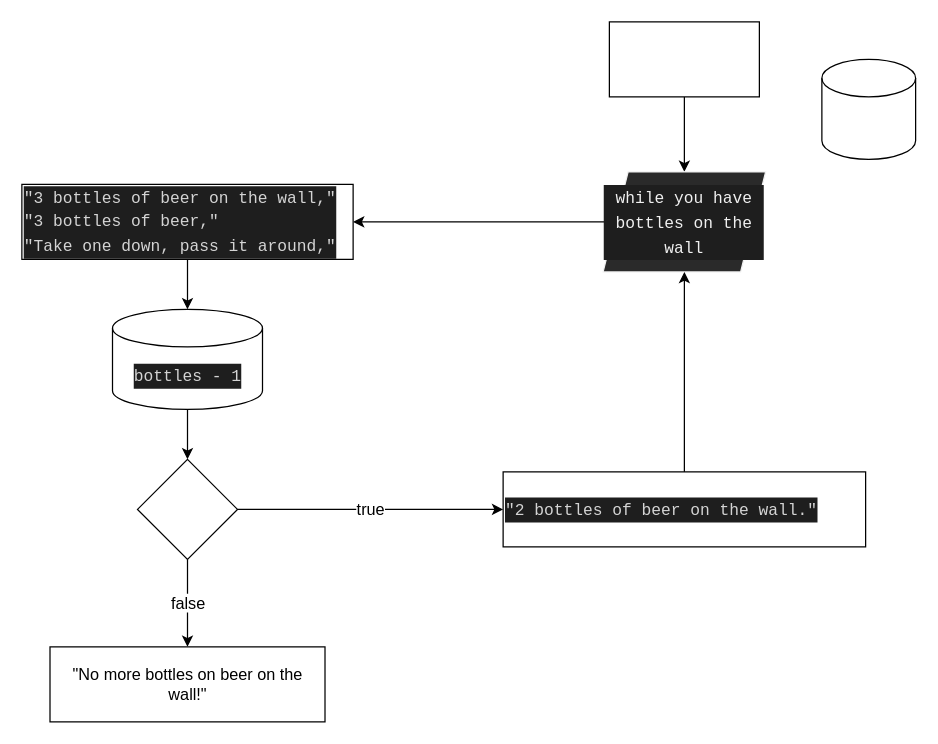
The diagram is 938 pixels wide and 744 high, and some of its shapes have lost their labels. The shapes that lost their labels are listed below. From the top down, each one's centre as x and y in pixels, then its label:
[683,59]: bottles = 3
[868,108]: bottles
[187,508]: have bottles left?
